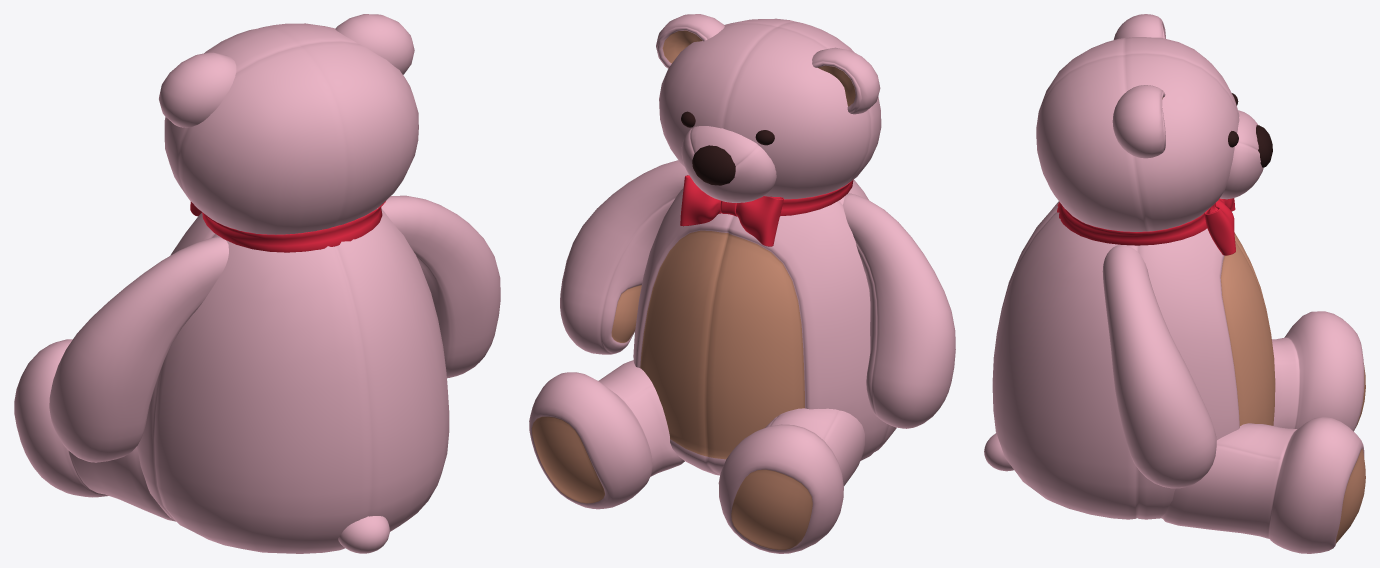
Rendered from LVR_Prize.fbx.
3 views of the same model, side by side, from view 1: azimuth 30°, elevation 25°; view 2: azimuth 150°, elevation 25°; view 3: azimuth 270°, elevation 25° (orthographic). The views are drawn at different scales.
Parts seen in each view (by area): view 1: Bear; view 2: Bear; view 3: Bear.
Part boxes in pixels (x1=…): Bear: x1=14, y1=14, x2=500, y2=553; Bear: x1=529, y1=14, x2=955, y2=553; Bear: x1=984, y1=14, x2=1365, y2=553.
Bounding box in the file's own units: 300 × 327 × 252.
